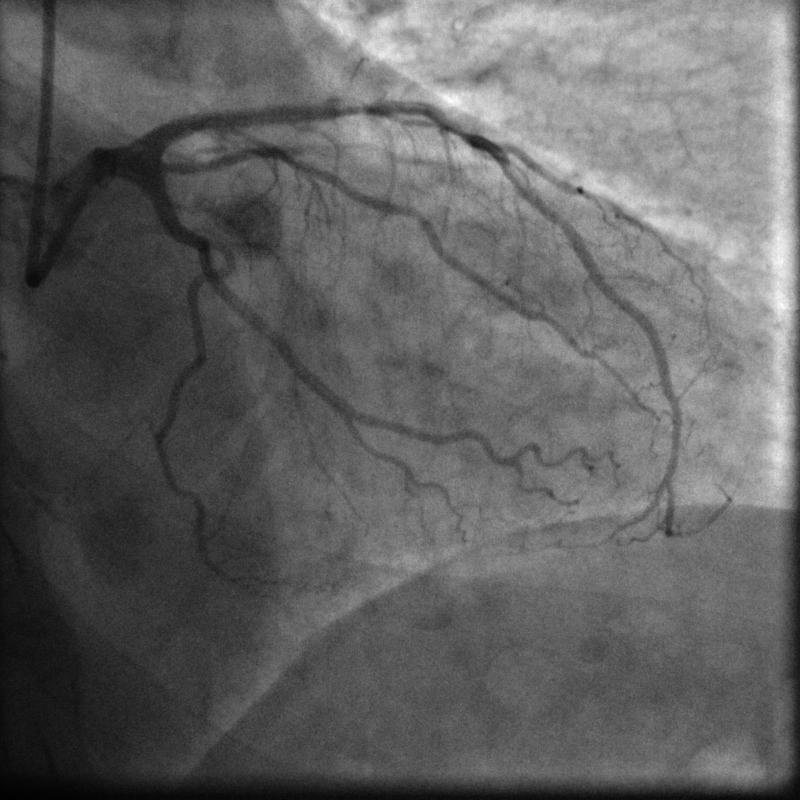Stenosis: (329, 97, 379, 118)
